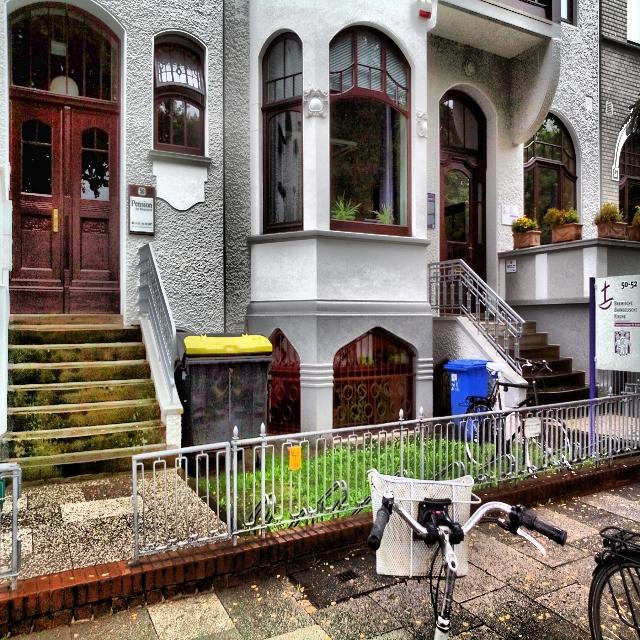escada: (1, 322, 165, 482), (465, 317, 593, 418)
